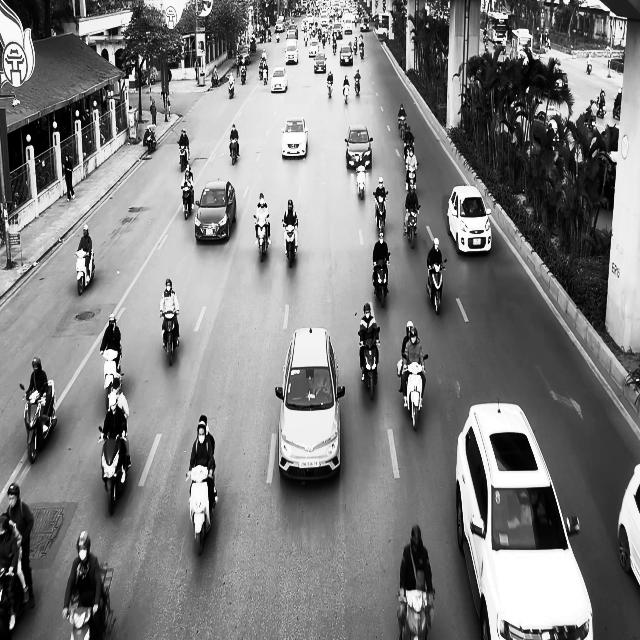car: (455, 400, 593, 639), (275, 327, 345, 482), (447, 185, 492, 254), (616, 463, 640, 587), (194, 180, 237, 242), (344, 124, 373, 169), (280, 116, 308, 158), (270, 66, 288, 92), (285, 39, 298, 64), (313, 52, 327, 73), (339, 45, 353, 65)
motorbike: (19, 380, 57, 463), (98, 424, 131, 516), (185, 466, 218, 556), (400, 354, 428, 430), (358, 327, 380, 400), (101, 348, 123, 412), (426, 258, 447, 314), (159, 309, 179, 366), (372, 254, 390, 308), (75, 247, 95, 295), (253, 214, 270, 262), (282, 219, 298, 267), (404, 205, 420, 248), (373, 191, 388, 235), (181, 185, 194, 219), (404, 162, 418, 192), (356, 162, 366, 199), (144, 126, 156, 153), (178, 143, 188, 171), (229, 137, 239, 165), (228, 78, 235, 99), (211, 69, 219, 87), (343, 83, 349, 104), (354, 76, 360, 95), (262, 66, 268, 85)
